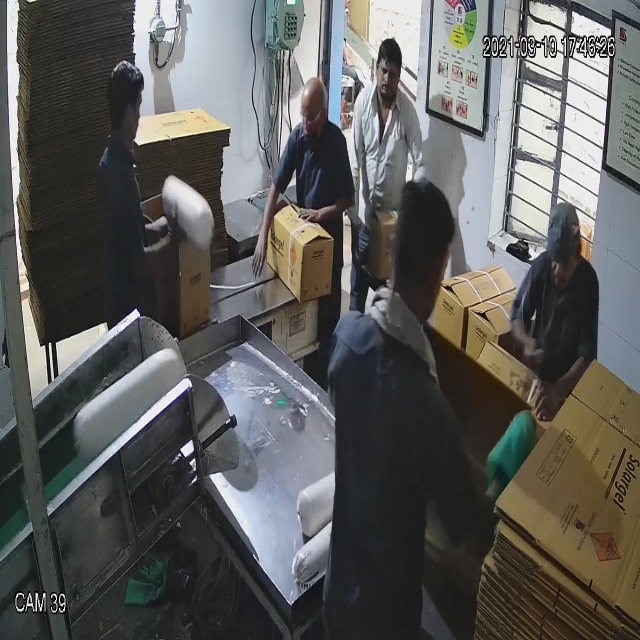Guantes: (478, 404, 543, 500)
Sin_guantes: (528, 340, 600, 434), (126, 206, 198, 282), (246, 165, 281, 295), (293, 178, 352, 236)
